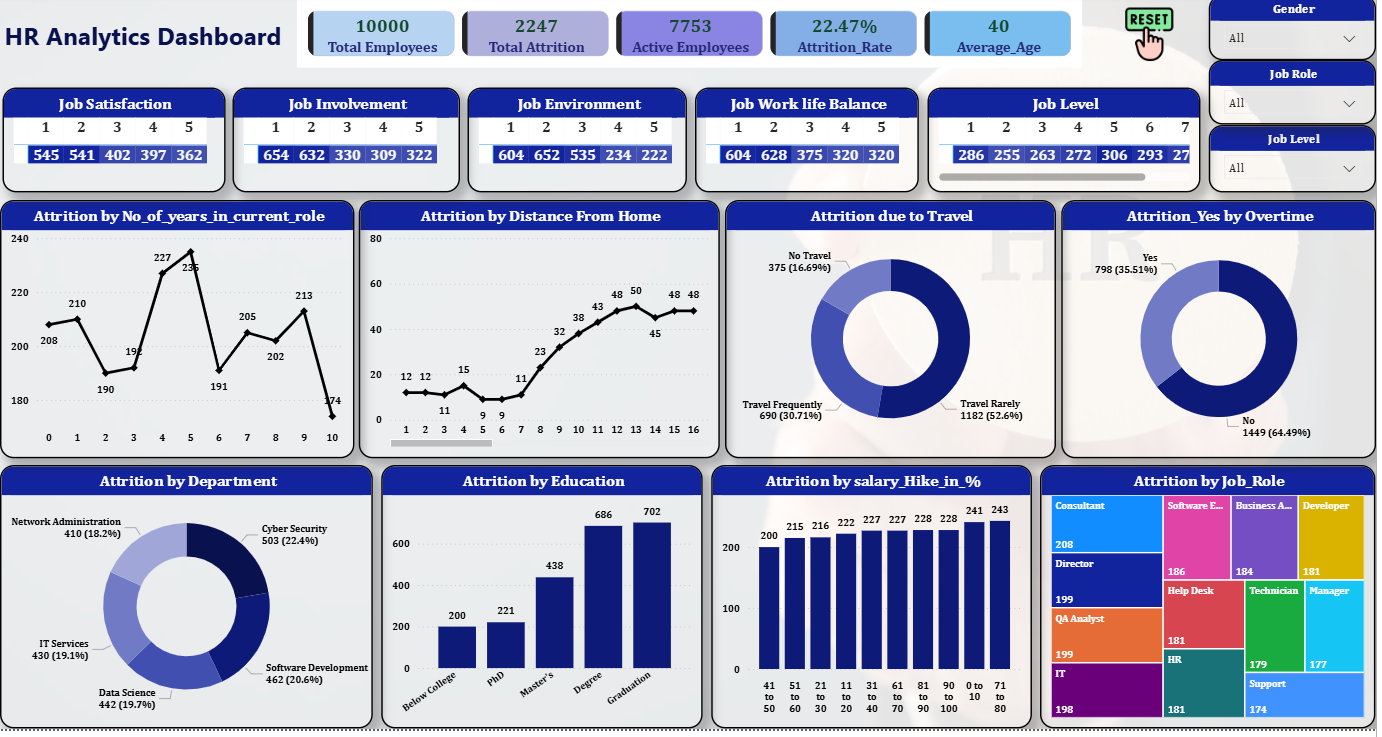

This screenshot's page, from the dashboard's own definition file:
{"tool":"powerbi","page":{"name":"HR Analytics Dashboard","canvas":[1500,800],"ordinal":0},"visuals":[{"type":"cardVisual","fields":{"Data":["CountNonNull(Employees.Employee_ID)","Employees.Attrition_Yes","Employees.Attrition_No","Employees.Attrition_Rate","Employees.Average_Age"]},"box":[318.6,0,868.6,84.9],"z":0},{"type":"donutChart","title":"Attrition by Department","fields":{"Category":["Employees.Department"],"Y":["Employees.Attrition_Yes"]},"box":[0,512.9,406.5,287.4],"z":1000},{"type":"treemap","title":"Attrition by Job_Role","fields":{"Group":["Employees.Job_Role"],"Values":["Employees.Attrition_Yes"]},"box":[1134.3,512.9,365.7,287.4],"z":2000},{"type":"lineChart","title":"Attrition by Distance From Home","fields":{"Y":["Employees.Attrition_Yes"],"Category":["Employees.Distance_From_Home"]},"box":[391.7,223.1,393.7,281.5],"z":3000},{"type":"donutChart","fields":{"Y":["Employees.Attrition_Yes"],"Category":["Employees.Overtime"]},"box":[1156.5,223.1,343.5,281.5],"z":4000},{"type":"pivotTable","title":"Job Involvement","fields":{"Values":["Employees.Attrition_Yes"],"Columns":["Employees.Job_Involvement"]},"box":[253.8,100.5,247.7,114.5],"z":5000},{"type":"pivotTable","title":"Job Environment","fields":{"Values":["Employees.Attrition_Yes"],"Columns":["Employees.Environment_Satisfaction"]},"box":[509.9,100.5,239.5,114.5],"z":6000},{"type":"pivotTable","title":"Job Work life Balance","fields":{"Values":["Employees.Attrition_Yes"],"Columns":["Employees.Work_life_balance"]},"box":[757.9,100.5,244.2,114.5],"z":7000},{"type":"donutChart","title":"Attrition due to Travel","fields":{"Y":["Employees.Attrition_Yes"],"Category":["Employees.Business_Travel"]},"box":[790.5,223.1,361,281.5],"z":8000},{"type":"lineChart","title":"Attrition by No_of_years_in_current_role","fields":{"Category":["Employees.No_of_years_in_current_role"],"Y":["Employees.Attrition_Yes"]},"box":[0,223.1,386.7,281.5],"z":9000},{"type":"columnChart","title":"Attrition by salary_Hike_in_%","fields":{"Y":["Employees.Attrition_Yes"],"Category":["Employees.Salary_Hike_in_percent (groups)"]},"box":[775.7,512.9,349.3,287.4],"z":10000},{"type":"columnChart","title":"Attrition by Education","fields":{"Y":["Employees.Attrition_Yes"],"Category":["Employees.Education"]},"box":[415.9,512.9,350.5,287.4],"z":11000},{"type":"pivotTable","title":"Job Satisfaction","fields":{"Columns":["Employees.Job_Satisfaction"],"Values":["Employees.Attrition_Yes"]},"box":[2.3,100.5,243,114.5],"z":12000},{"type":"pivotTable","title":"Job Level","fields":{"Values":["Employees.Attrition_Yes"],"Columns":["Employees.Job_Level"]},"box":[1010.5,100.5,297.9,114.5],"z":13000},{"type":"textbox","box":[0,19.8,318.6,46.5],"z":14000},{"type":"slicer","title":"Gender","fields":{"Values":["Employees.Gender"]},"box":[1317.8,0,182.2,71.3],"z":15000},{"type":"slicer","title":"Job Level","fields":{"Values":["Employees.Job_Level"]},"box":[1317.8,141.4,182.2,73.6],"z":16000},{"type":"slicer","title":"Job Role","fields":{"Values":["Employees.Job_Role"]},"box":[1317.8,71.3,182.2,70.1],"z":17000},{"type":"image","box":[1196.3,14,112.2,58.4],"z":18000}]}

Visuals, with their boxes in screenshot pixels (x1, y1, x2, y2), scaled from the page's 1500x800 canvas onto the 1382x737 screenshot:
cardVisual - CountNonNull(Employees.Employee_ID) x Employees.Attrition_Yes: rect(294, 0, 1094, 78)
"Attrition by Department" donutChart: rect(0, 473, 375, 736)
"Attrition by Job_Role" treemap: rect(1045, 473, 1381, 736)
"Attrition by Distance From Home" lineChart: rect(361, 206, 724, 465)
donutChart - Employees.Attrition_Yes x Employees.Overtime: rect(1066, 206, 1381, 465)
"Job Involvement" pivotTable: rect(234, 93, 462, 198)
"Job Environment" pivotTable: rect(470, 93, 690, 198)
"Job Work life Balance" pivotTable: rect(698, 93, 923, 198)
"Attrition due to Travel" donutChart: rect(728, 206, 1061, 465)
"Attrition by No_of_years_in_current_role" lineChart: rect(0, 206, 356, 465)
"Attrition by salary_Hike_in_%" columnChart: rect(715, 473, 1036, 736)
"Attrition by Education" columnChart: rect(383, 473, 706, 736)
"Job Satisfaction" pivotTable: rect(2, 93, 226, 198)
"Job Level" pivotTable: rect(931, 93, 1205, 198)
textbox: rect(0, 18, 294, 61)
"Gender" slicer: rect(1214, 0, 1381, 66)
"Job Level" slicer: rect(1214, 130, 1381, 198)
"Job Role" slicer: rect(1214, 66, 1381, 130)
image: rect(1102, 13, 1206, 67)
